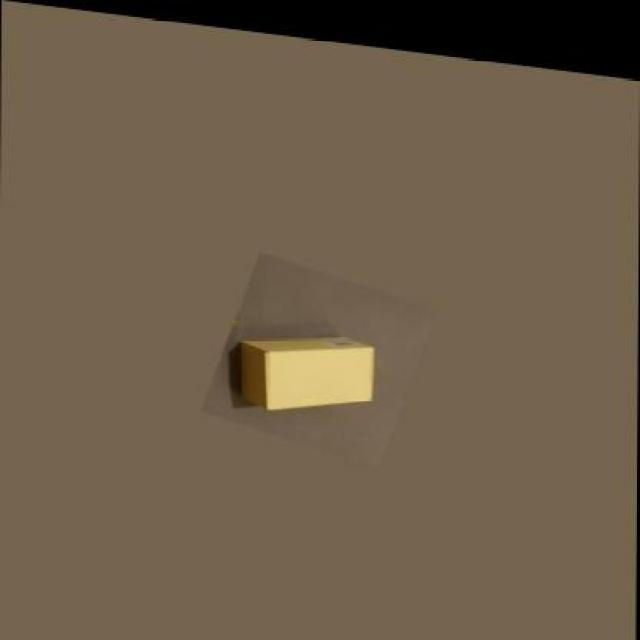box: (240, 317, 371, 410)
